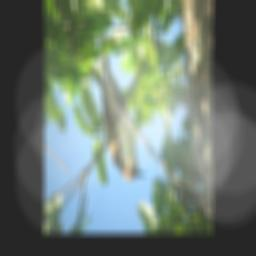Cuckoo: (97, 25, 147, 182)
